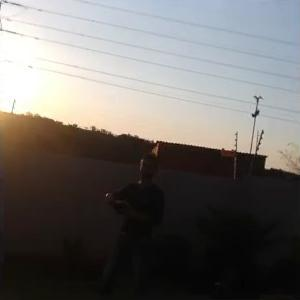follow: (99, 144, 172, 296)
